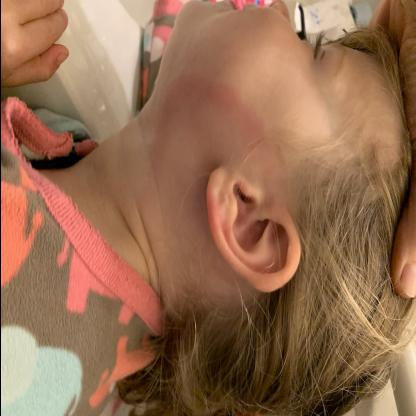Tick: (146, 67, 289, 293)
